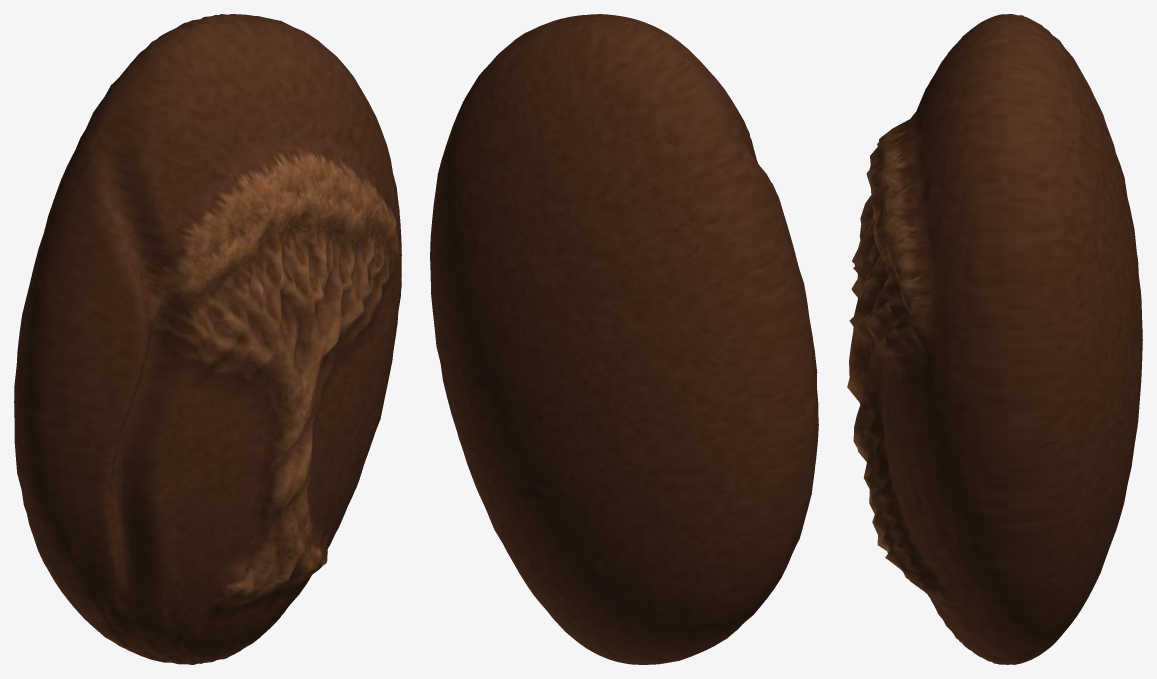
Rendered from dragon-blood-tree.glb.
3 renders of one model, left to right at view 1: azimuth 30°, elevation 25°; view 2: azimuth 150°, elevation 25°; view 3: azimuth 270°, elevation 25°, orthographic.
Parts seen in each view (by area): view 1: dragon-blood-tree; view 2: dragon-blood-tree; view 3: dragon-blood-tree.
Part boxes in pixels (bbox=[...]): dragon-blood-tree: bbox=[14, 14, 401, 664]; dragon-blood-tree: bbox=[430, 14, 818, 664]; dragon-blood-tree: bbox=[847, 14, 1142, 664].
Bounding box in the file's own units: 1.12 × 1.86 × 0.7849.
Materials: 1 (1 with a texture image).
